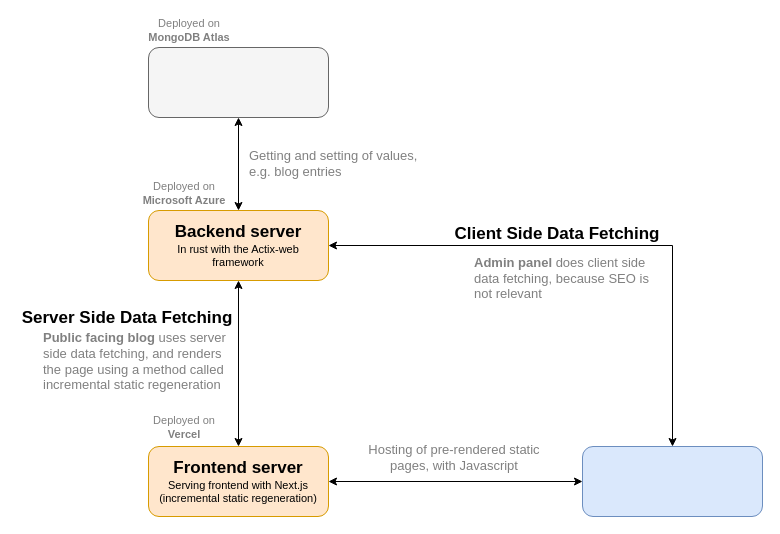
Image size: 780x534. Some labels were removed from this diagram. Each missing label, with the centre of its shape:
"Database With MongoDB" goes at (x=238, y=82).
"Frontend Statically rendered with react hydrated on load" goes at (x=672, y=481).
